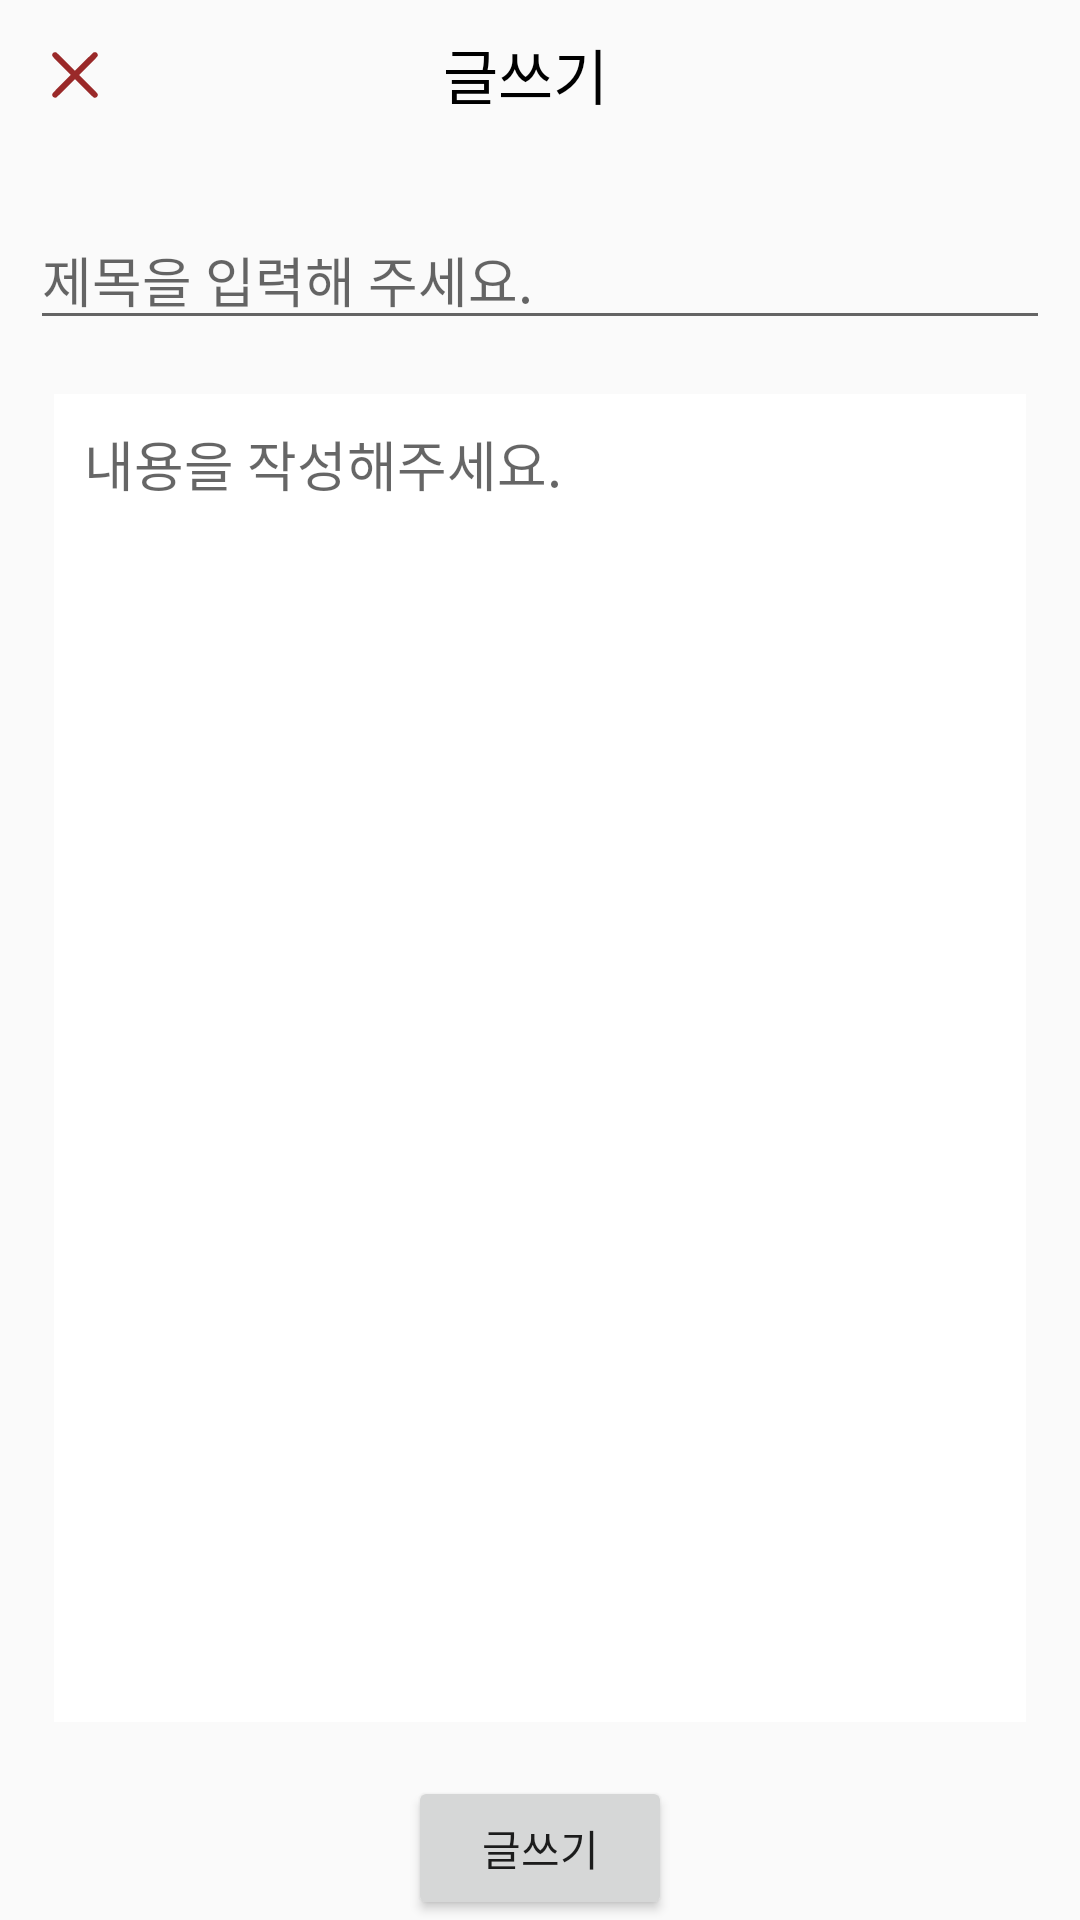

Screen size 1080px×1920px. Icon name, then its box in pixels as (x1, y1, x2, y2):
cancel: (52, 52, 98, 98)
